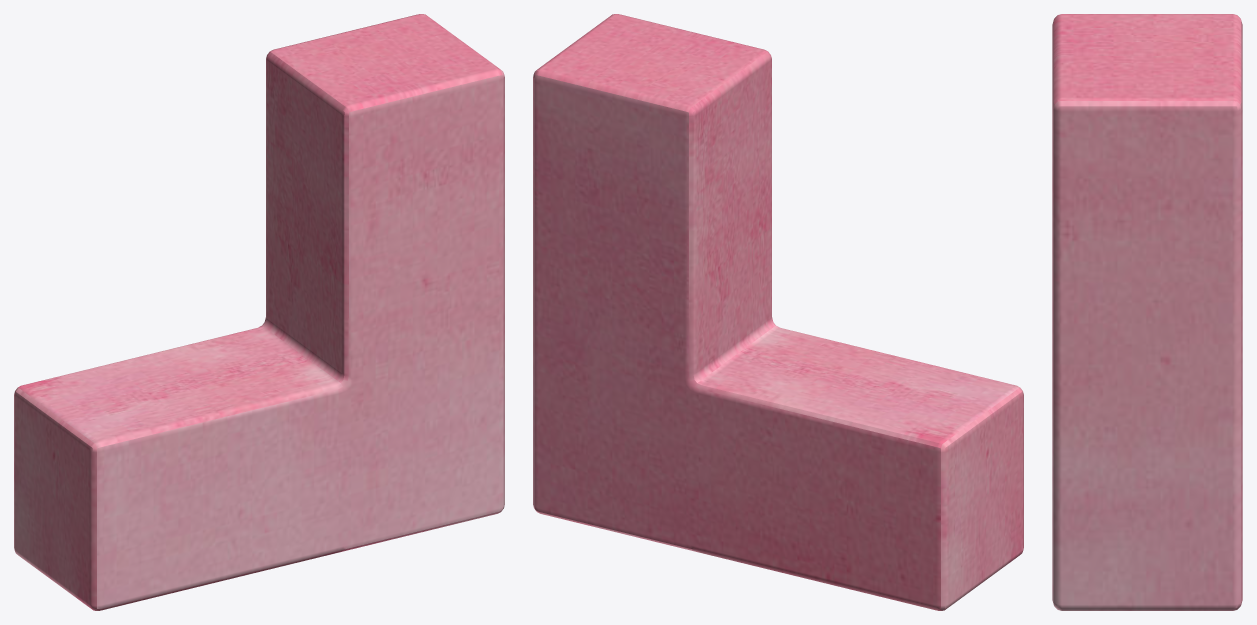
The model's file is camera frame.fbx.
The picture shows the model from 3 angles, left to right: view 1: azimuth 30°, elevation 25°; view 2: azimuth 150°, elevation 25°; view 3: azimuth 270°, elevation 25°; orthographic projection. The views are drawn at different scales.
Parts seen in each view (by area): view 1: pCube1; view 2: pCube1; view 3: pCube1.
Part boxes in pixels (bbox=[...]): pCube1: bbox=[14, 14, 504, 610]; pCube1: bbox=[533, 14, 1023, 610]; pCube1: bbox=[1052, 14, 1242, 610].
Size of the model in its own units: 1.03 by 1.06 by 0.3557.
Materials: 1 (1 with a texture image).
